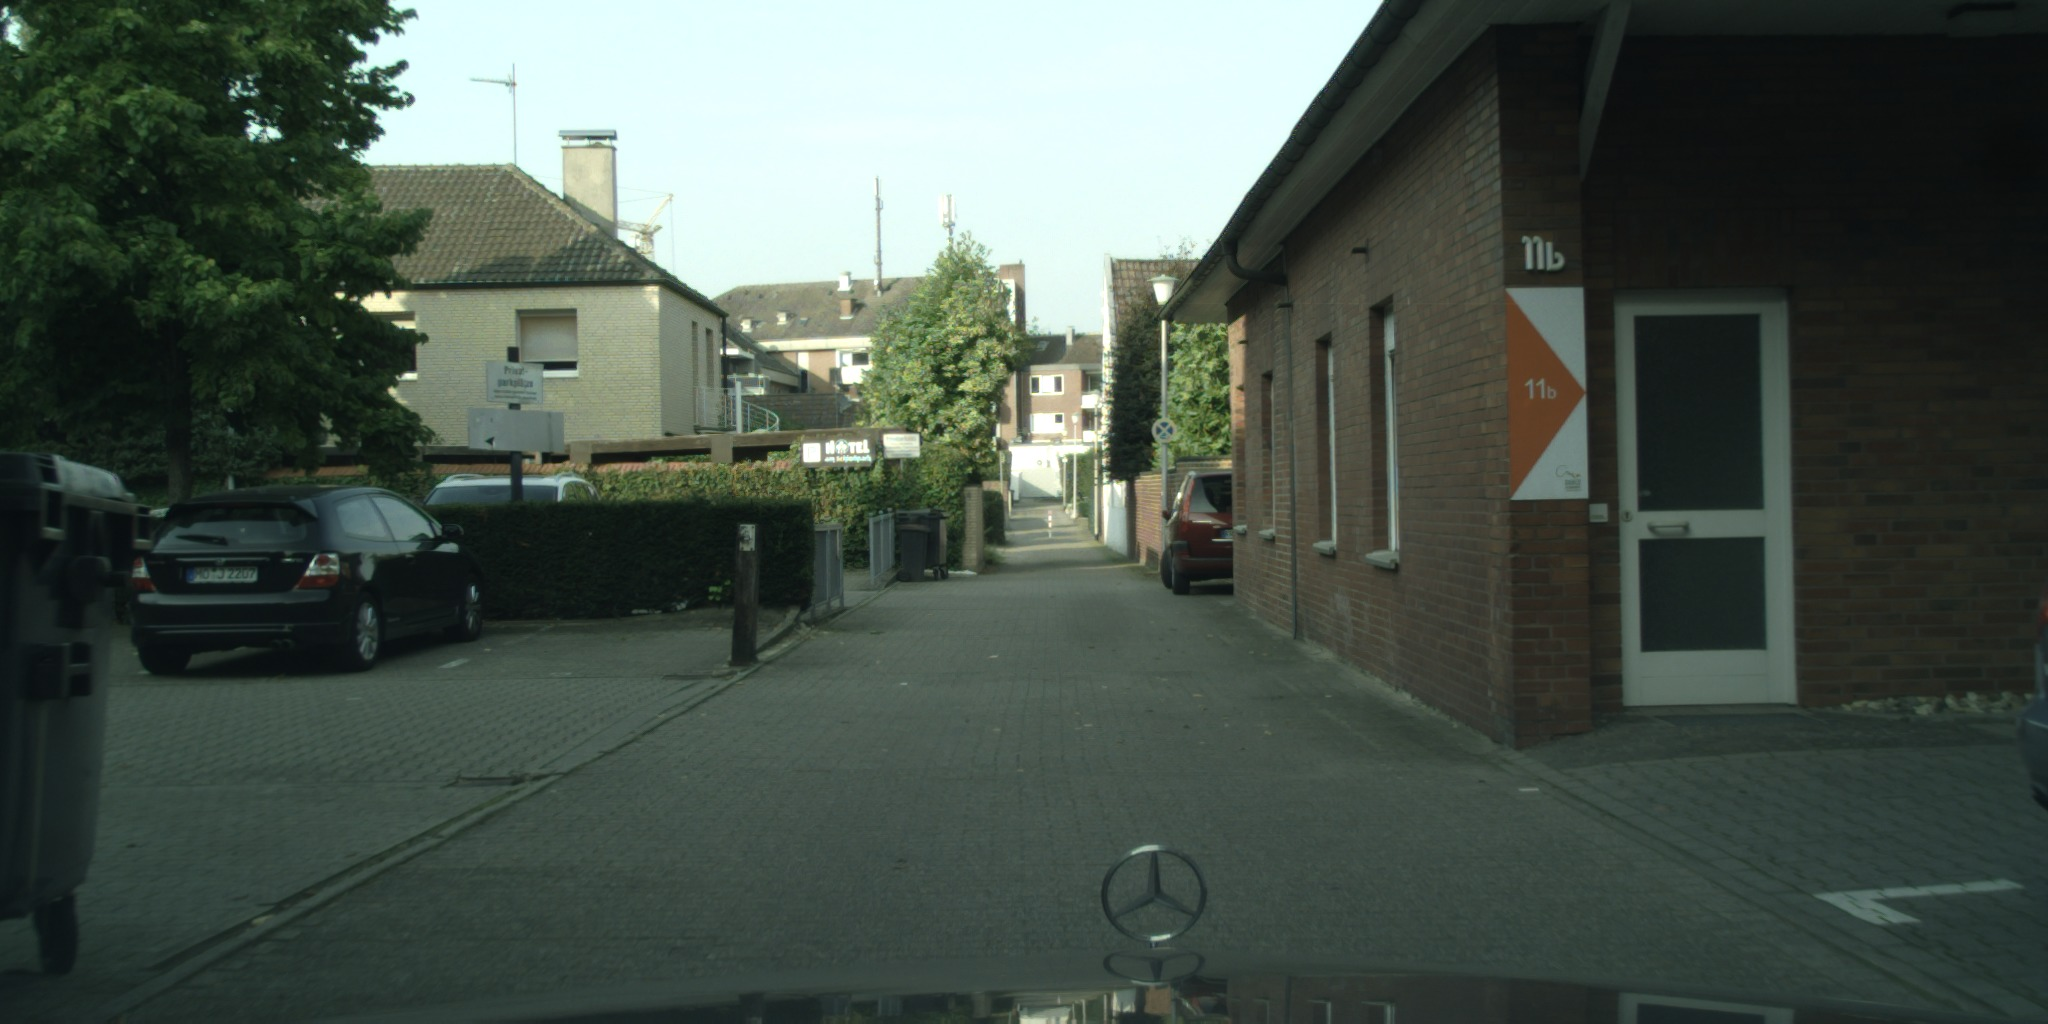car: (125, 483, 488, 677), (1159, 468, 1238, 597), (413, 470, 605, 524), (2017, 577, 2048, 815)
